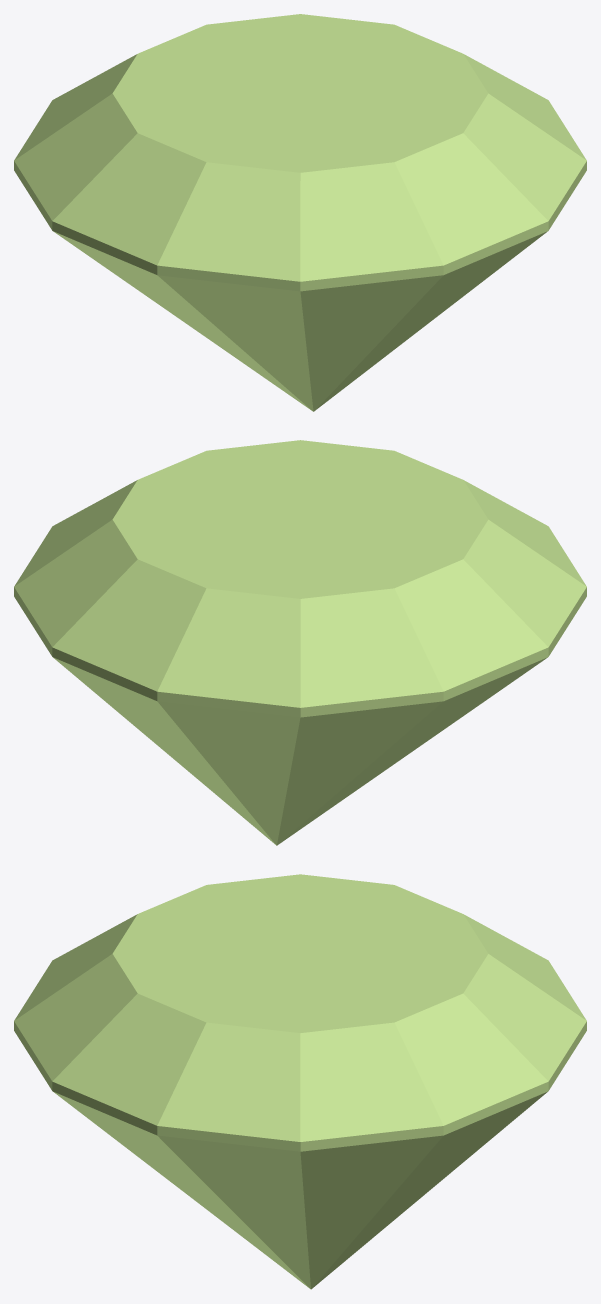
Rendered from red_gem.glb.
3 renders of one model, top to bottom at view 1: azimuth 30°, elevation 25°; view 2: azimuth 150°, elevation 25°; view 3: azimuth 270°, elevation 25°, orthographic.
Parts seen in each view (by area): view 1: group655375255; view 2: group655375255; view 3: group655375255.
Boxes of the visible parts, left/top/right/bottom form: group655375255: left=14, top=14, right=586, bottom=411; group655375255: left=14, top=440, right=586, bottom=845; group655375255: left=14, top=874, right=586, bottom=1289.
Size of the model in its own units: 0.54 by 0.34 by 0.54.
